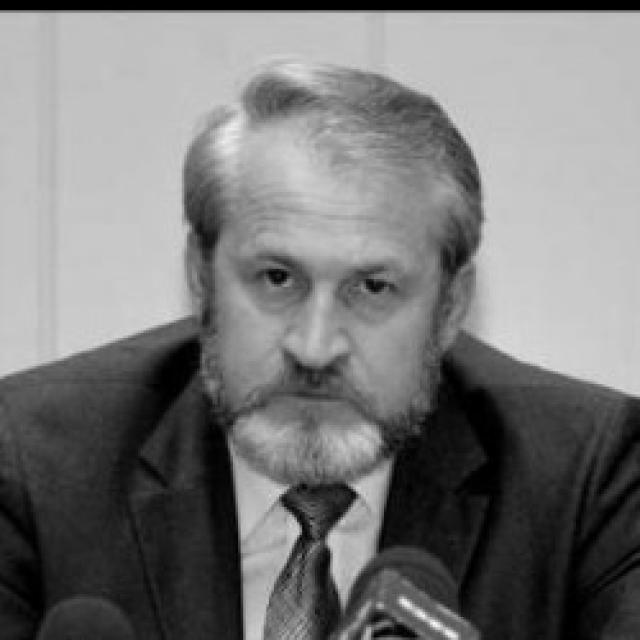real: (204, 112, 457, 468), (246, 251, 412, 321)
